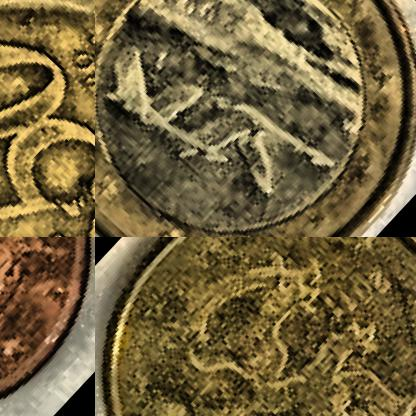coin: (95, 0, 415, 236), (95, 237, 415, 415), (0, 0, 94, 236), (0, 237, 94, 415)
